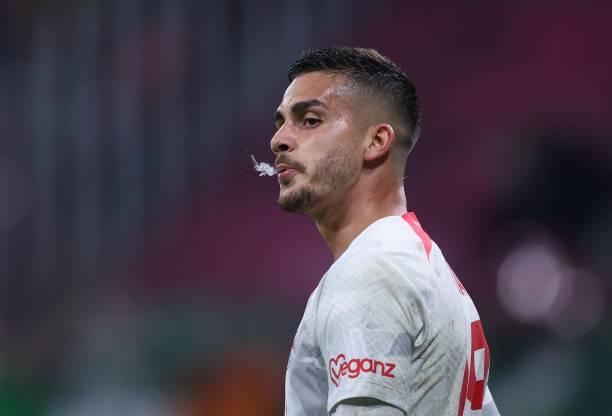Spitting: (217, 24, 442, 228)
